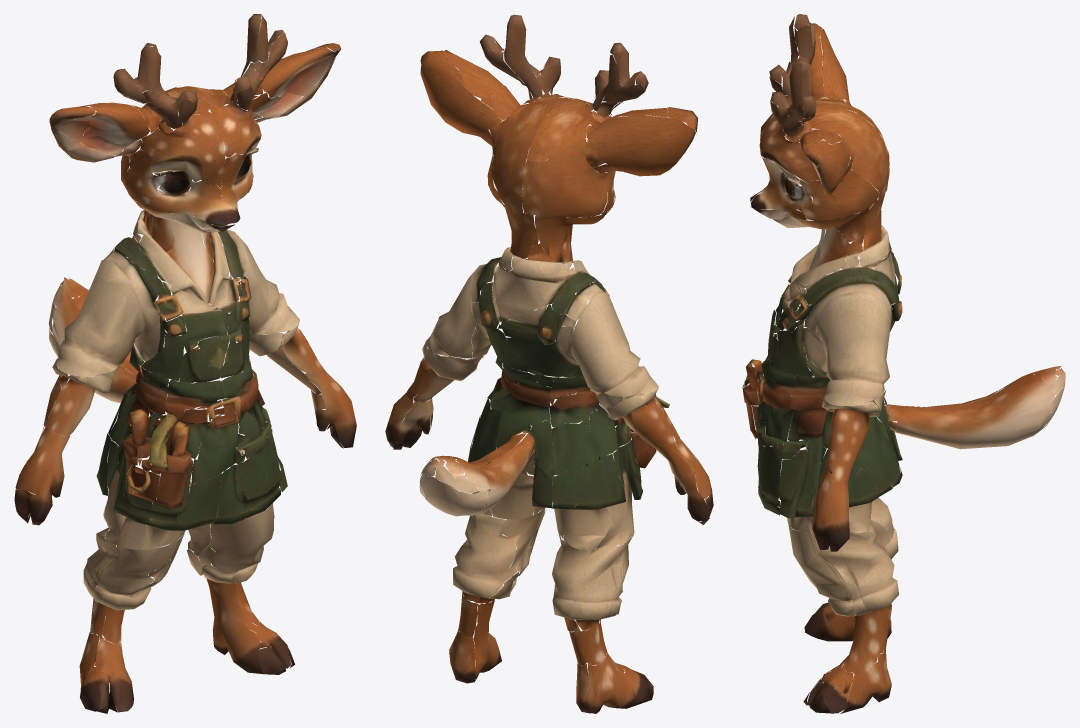
Rendered from 11_garden_deer-mobile-v1.glb.
The picture shows the model from 3 angles, left to right: view 1: azimuth 30°, elevation 25°; view 2: azimuth 150°, elevation 25°; view 3: azimuth 270°, elevation 25°; orthographic projection. The views are drawn at different scales.
Parts seen in each view (by area): view 1: tripo_node_4521a550-909b-4f99-8c98-e2b0f23457d6; view 2: tripo_node_4521a550-909b-4f99-8c98-e2b0f23457d6; view 3: tripo_node_4521a550-909b-4f99-8c98-e2b0f23457d6.
Part boxes in pixels (x1,y1,x2,y2): tripo_node_4521a550-909b-4f99-8c98-e2b0f23457d6: [14, 14, 356, 713]; tripo_node_4521a550-909b-4f99-8c98-e2b0f23457d6: [385, 14, 713, 713]; tripo_node_4521a550-909b-4f99-8c98-e2b0f23457d6: [742, 14, 1065, 713].
Bounding box in the file's own units: 1.03 × 1.95 × 0.9043.
Materials: 1 (1 with a texture image).
